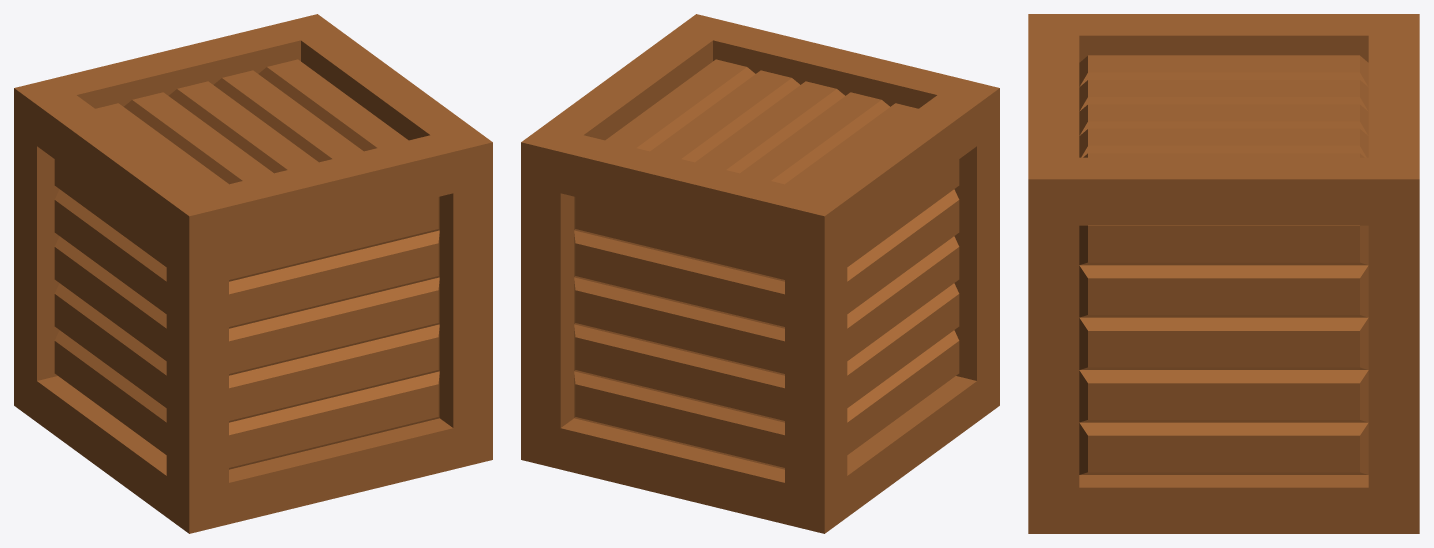
3 renders of one model, left to right at view 1: azimuth 30°, elevation 25°; view 2: azimuth 150°, elevation 25°; view 3: azimuth 270°, elevation 25°, orthographic. The views are drawn at different scales.
Parts seen in each view (by area): view 1: wooden box; view 2: wooden box; view 3: wooden box.
Boxes of the visible parts, x1,y1,x2,y2 form: wooden box: (14, 14, 492, 533); wooden box: (521, 14, 999, 533); wooden box: (1028, 14, 1419, 533).
Size of the model in its own units: 1 by 1 by 1.
